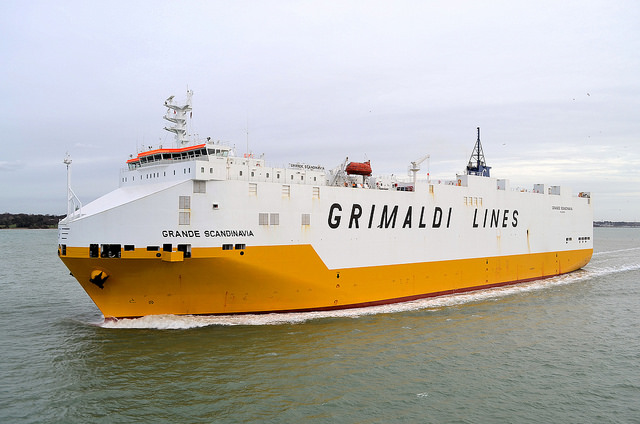PCC: (58, 83, 592, 319)
